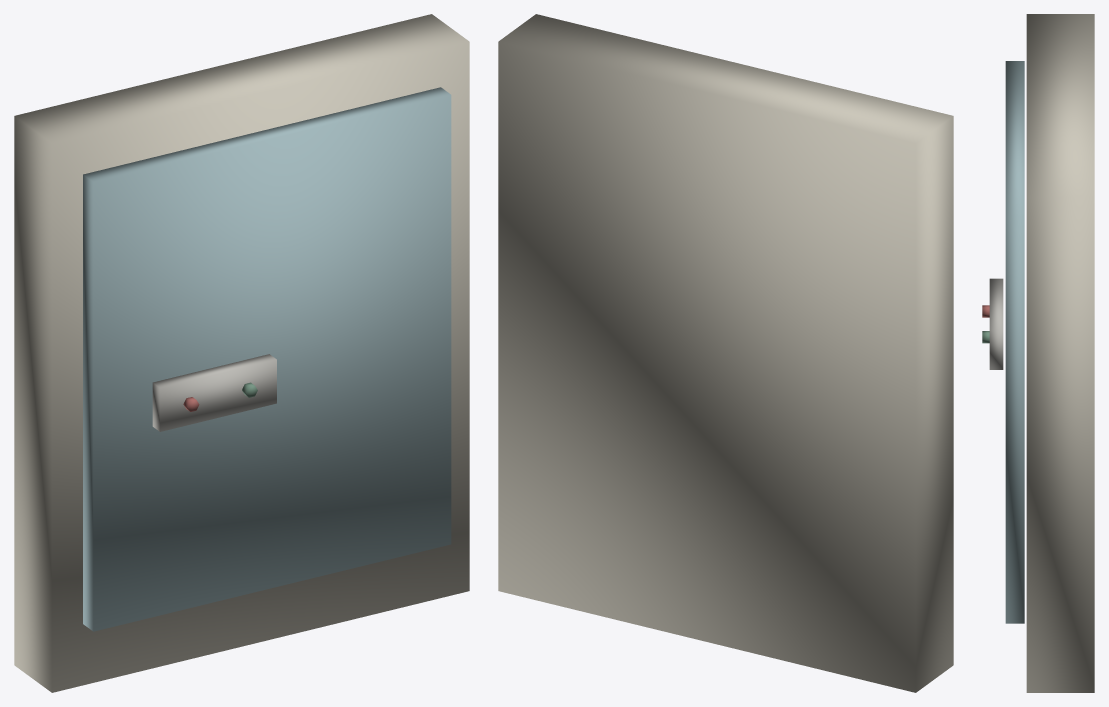
File: x_ray_lightbox__deep.glb
3 renders of one model, left to right at view 1: azimuth 30°, elevation 25°; view 2: azimuth 150°, elevation 25°; view 3: azimuth 270°, elevation 25°, orthographic. The views are drawn at different scales.
Visible parts, largest first — view 1: world; view 2: world; view 3: world.
Boxes of the visible parts, bbox=[...] form: world: bbox=[14, 14, 469, 692]; world: bbox=[498, 14, 953, 692]; world: bbox=[982, 14, 1094, 692].
Size of the model in its own units: 0.7 by 0.88 by 0.1812.
